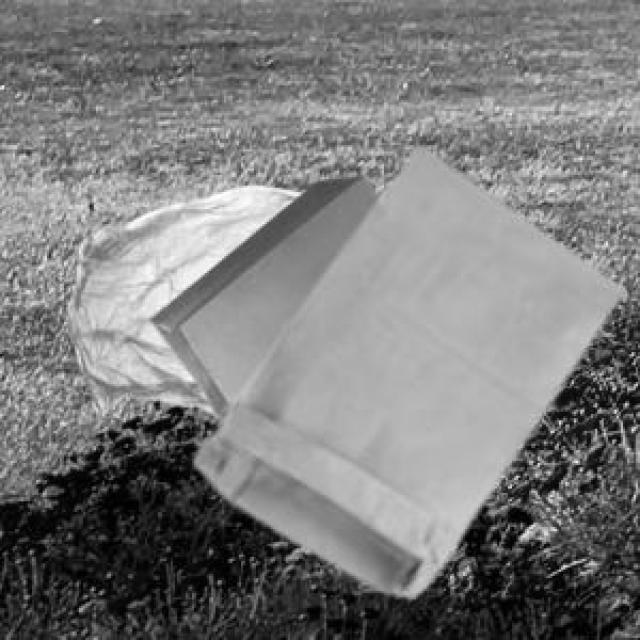paper: (192, 145, 617, 591), (145, 173, 376, 416)
